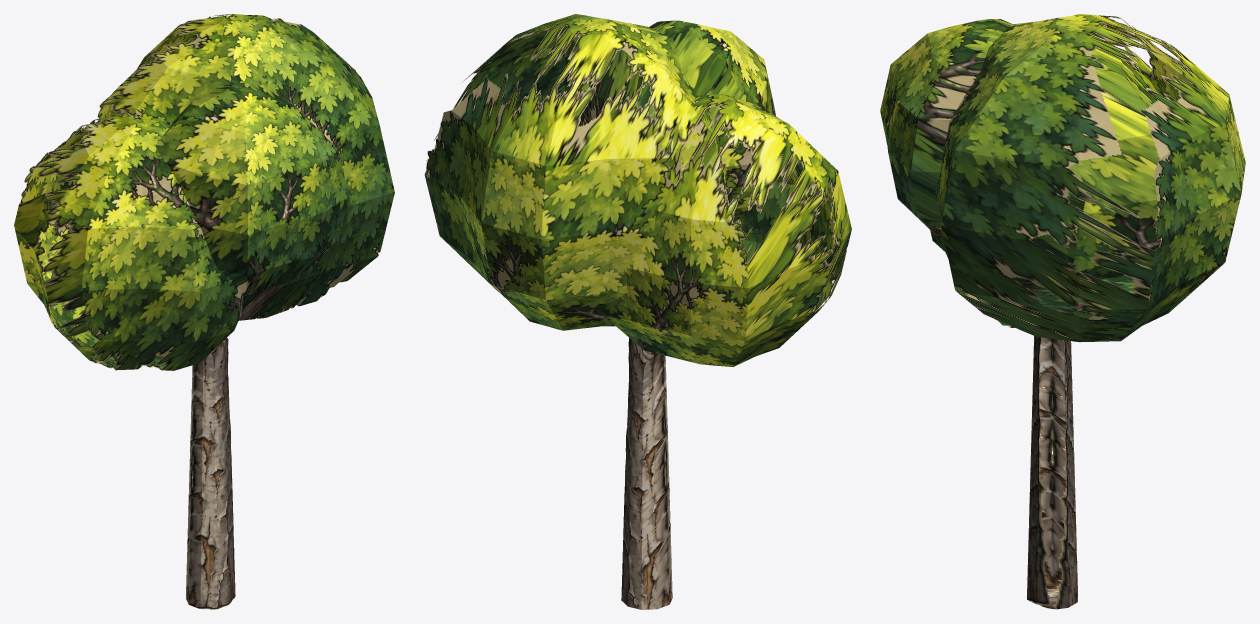
File: tree_b.glb
The picture shows the model from 3 angles, left to right: view 1: azimuth 30°, elevation 25°; view 2: azimuth 150°, elevation 25°; view 3: azimuth 270°, elevation 25°; orthographic projection. The views are drawn at different scales.
Visible parts, largest first — view 1: tree_b_game; view 2: tree_b_game; view 3: tree_b_game.
Boxes of the visible parts, bbox=[...] form: tree_b_game: bbox=[14, 14, 394, 609]; tree_b_game: bbox=[424, 14, 851, 609]; tree_b_game: bbox=[880, 14, 1245, 609].
Size of the model in its own units: 3.21 by 4.9 by 2.72.
1 material, 1 textured.
